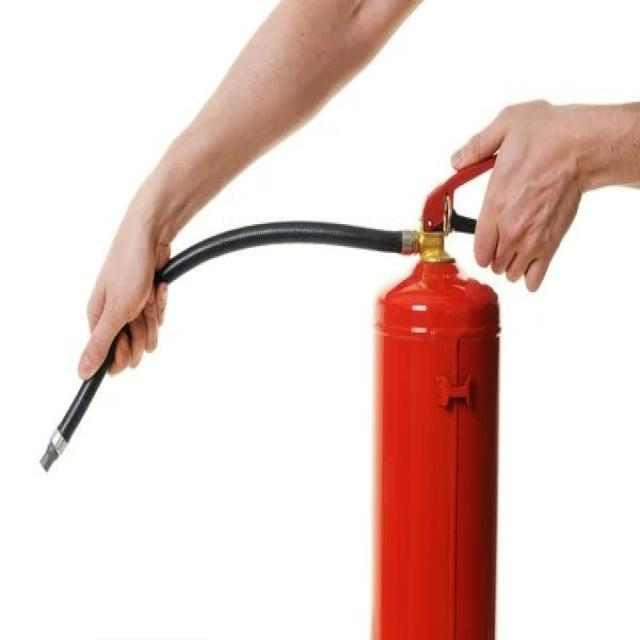fire_extinguisher: (37, 144, 549, 638)
